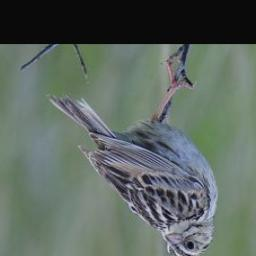Sparrow: (45, 54, 218, 256)
